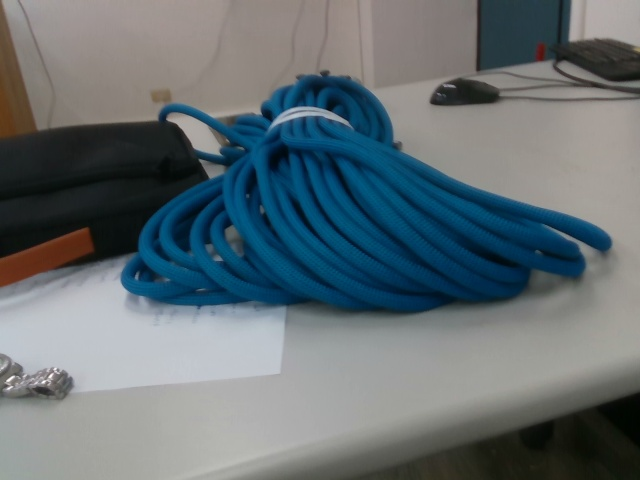rope: (117, 73, 618, 315)
